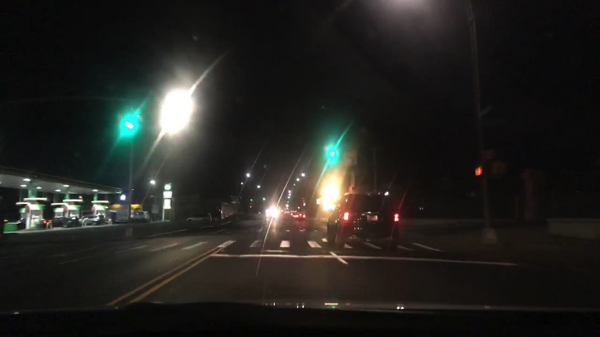car: (325, 191, 400, 252), (16, 216, 49, 229), (78, 213, 105, 226), (184, 214, 218, 222), (49, 217, 71, 228), (131, 211, 151, 223), (66, 215, 82, 228), (263, 207, 281, 217), (294, 213, 306, 220), (415, 206, 426, 212), (282, 209, 292, 214), (289, 213, 299, 217)
traffic light: (118, 116, 138, 135), (492, 163, 508, 176), (326, 149, 338, 160), (474, 167, 482, 176), (284, 195, 293, 201), (261, 197, 268, 203), (249, 197, 254, 204)
traffic sign: (477, 101, 493, 121), (480, 149, 498, 160), (483, 121, 507, 125), (163, 198, 171, 209), (151, 205, 159, 213), (163, 183, 172, 190), (316, 198, 323, 206), (164, 192, 172, 198)
truck: (115, 209, 130, 225)
